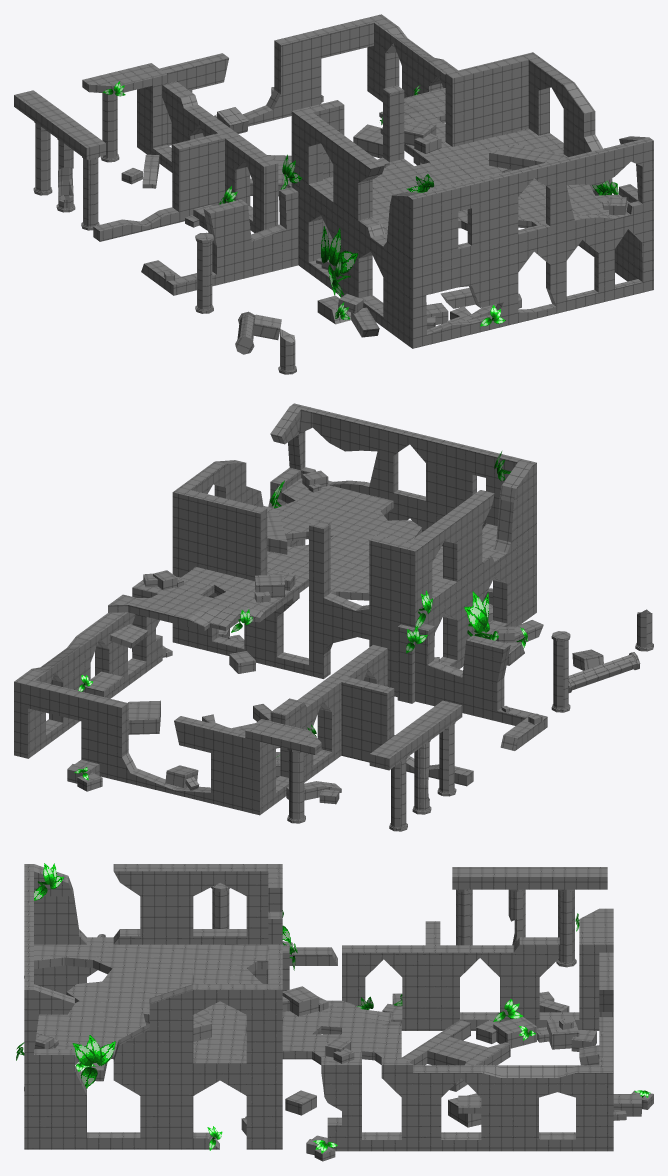
File: Ruins.fbx
3 renders of one model, top to bottom at view 1: azimuth 30°, elevation 25°; view 2: azimuth 150°, elevation 25°; view 3: azimuth 270°, elevation 25°, orthographic. The views are drawn at different scales.
Parts seen in each view (by area): view 1: Plane, platn.017; view 2: Plane, platn.017; view 3: Plane, platn.017.
Boxes of the visible parts, box(x1,y1,x2,y2) form: Plane: box(14, 14, 653, 374); platn.017: box(102, 81, 618, 326); Plane: box(14, 403, 653, 831); platn.017: box(74, 451, 527, 780); Plane: box(24, 864, 653, 1161); platn.017: box(16, 863, 650, 1153).
Bounding box in the file's own units: 3358 × 1345 × 4300.
2 materials, 2 textured.
